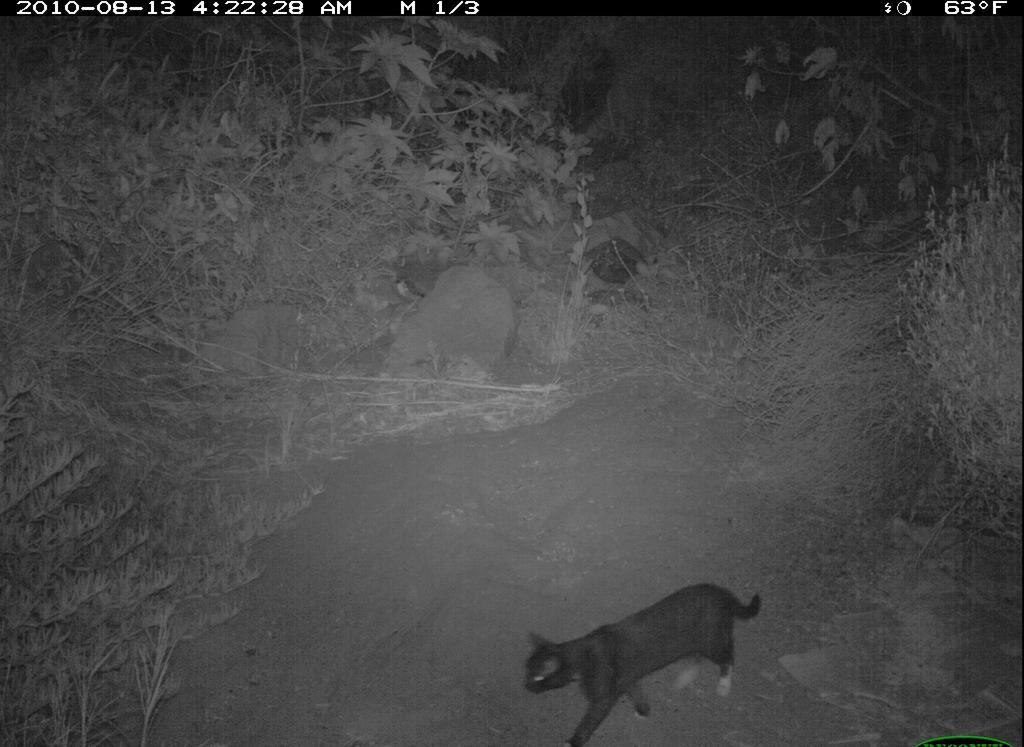cat: (515, 577, 771, 747)
